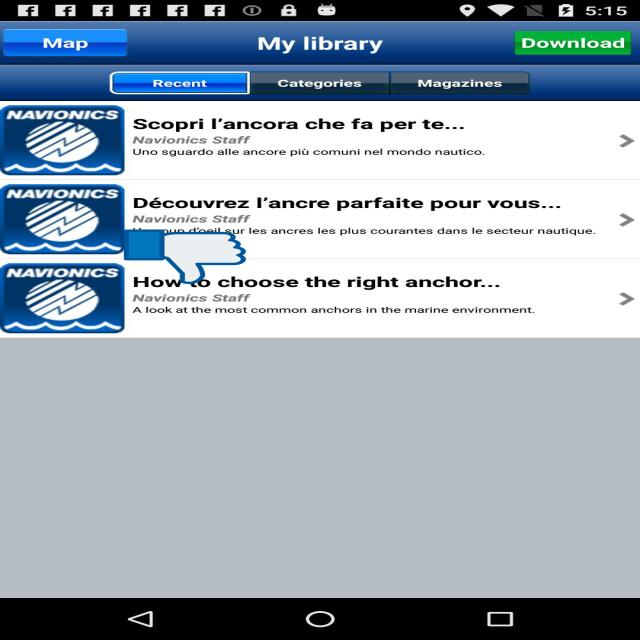obstruction: (124, 228, 246, 286)
